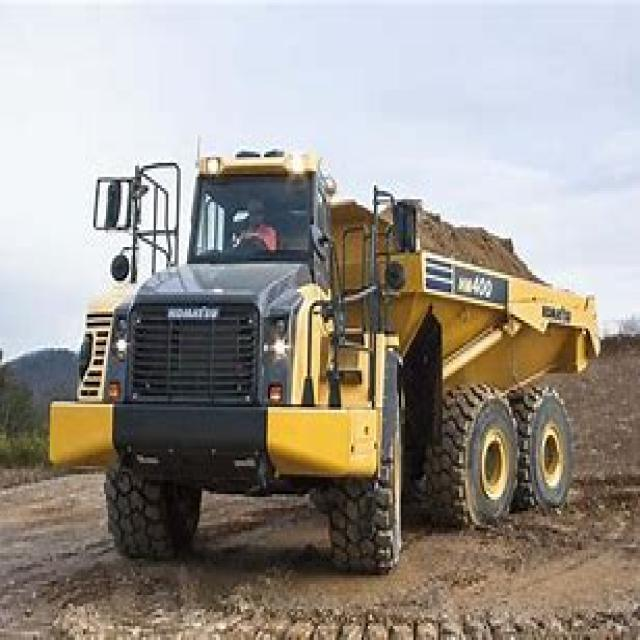dump_truck: (40, 126, 602, 573)
